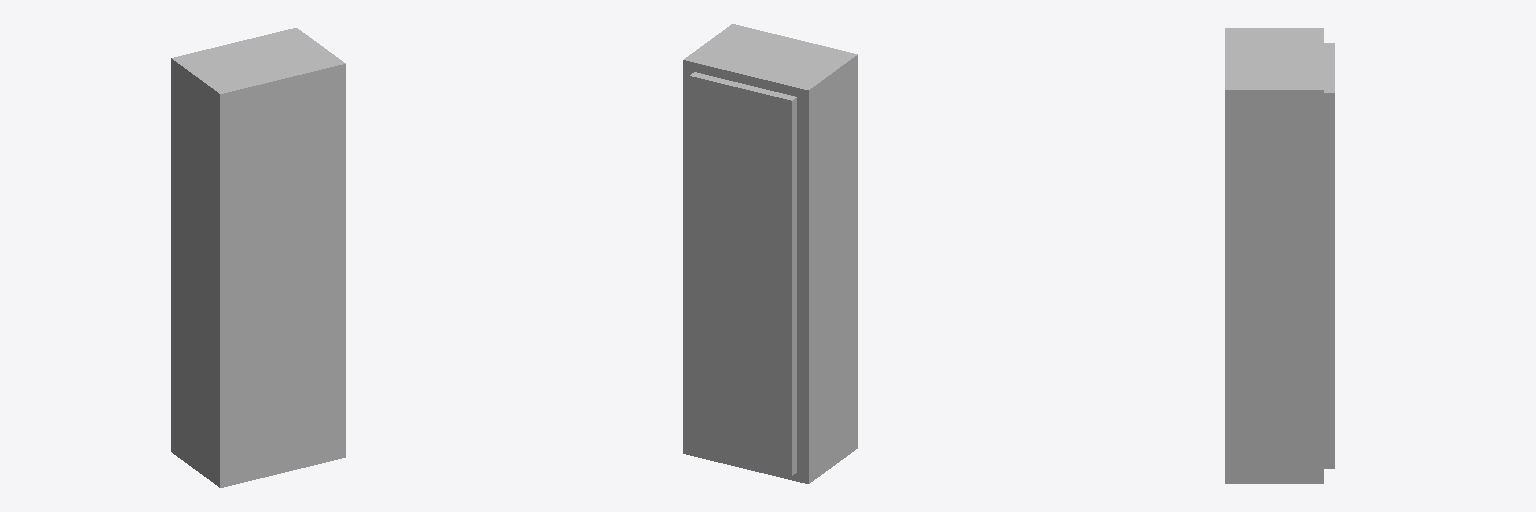
Rendered from Locker.obj.
3 renders of one model, left to right at view 1: azimuth 30°, elevation 25°; view 2: azimuth 150°, elevation 25°; view 3: azimuth 270°, elevation 25°, orthographic.
Parts seen in each view (by area): view 1: Locker:pCube1; view 2: Locker:pCube1; view 3: Locker:pCube1.
Boxes of the visible parts, <box> form: Locker:pCube1: <box>171,28,345,487</box>; Locker:pCube1: <box>683,24,857,483</box>; Locker:pCube1: <box>1225,28,1334,483</box>.
Size of the model in its own units: 3.32 by 9.94 by 2.49.